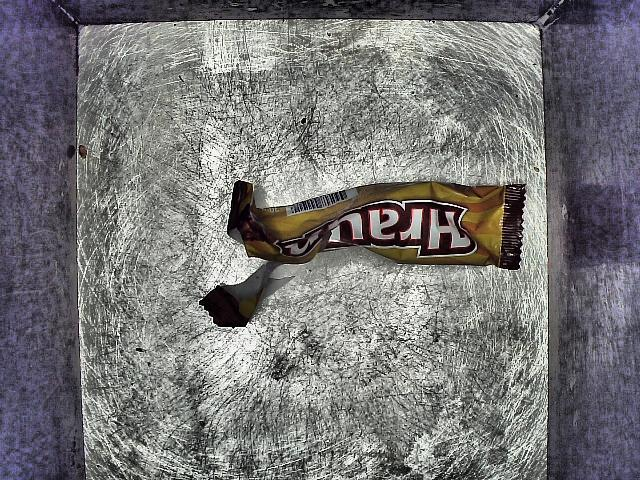Plastic: (192, 169, 542, 336)
